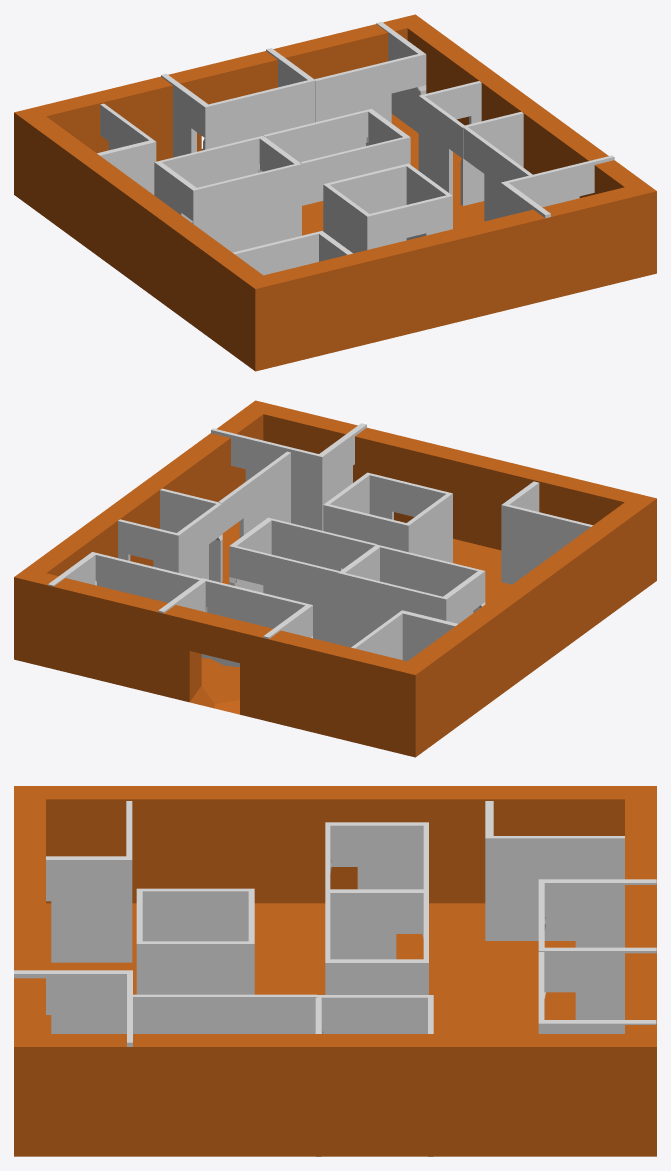
The model's file is firstlevelseperate.fbx.
3 renders of one model, top to bottom at view 1: azimuth 30°, elevation 25°; view 2: azimuth 150°, elevation 25°; view 3: azimuth 270°, elevation 25°, orthographic. The views are drawn at different scales.
Parts seen in each view (by area): view 1: Cube, Cube.008, Cube.010, Cube.003, Cube.007, Cube.006, Cube.004, Cube.001, Cube.005, Cube.002, Cube.009; view 2: Cube, Cube.008, Cube.006, Cube.010, Cube.007, Cube.001, Cube.002, Cube.003, Cube.004, Cube.009, Cube.005; view 3: Cube, Cube.010, Cube.008, Cube.003, Cube.005, Cube.002, Cube.009, Cube.001, Cube.007, Cube.006, Cube.004.
Part boxes in pixels (x1,y1,x2,y2): Cube: (14, 14, 656, 371); Cube.008: (154, 135, 301, 252); Cube.010: (323, 163, 452, 253); Cube.003: (161, 48, 315, 157); Cube.007: (418, 81, 523, 205); Cube.006: (263, 109, 410, 205); Cube.004: (315, 22, 426, 152); Cube.001: (501, 155, 614, 218); Cube.005: (97, 103, 156, 194); Cube.002: (233, 231, 352, 275); Cube.009: (463, 126, 532, 221); Cube: (14, 400, 656, 757); Cube.008: (337, 544, 485, 647); Cube.006: (229, 517, 376, 644); Cube.010: (323, 472, 452, 562); Cube.007: (118, 488, 222, 582); Cube.001: (211, 423, 366, 530); Cube.002: (501, 481, 592, 584); Cube.003: (158, 578, 312, 667); Cube.004: (48, 552, 201, 602); Cube.009: (218, 451, 290, 537); Cube.005: (351, 610, 457, 661); Cube: (14, 786, 656, 1156); Cube.010: (136, 888, 254, 994); Cube.008: (325, 822, 428, 959); Cube.003: (538, 879, 656, 1019); Cube.005: (485, 801, 624, 940); Cube.002: (46, 801, 132, 962); Cube.009: (133, 994, 317, 1033); Cube.001: (14, 970, 132, 1046); Cube.007: (315, 995, 433, 1156); Cube.006: (325, 892, 428, 994); Cube.004: (538, 952, 656, 1033).
Size of the model in its own units: 10.2 by 2.11 by 10.62.
